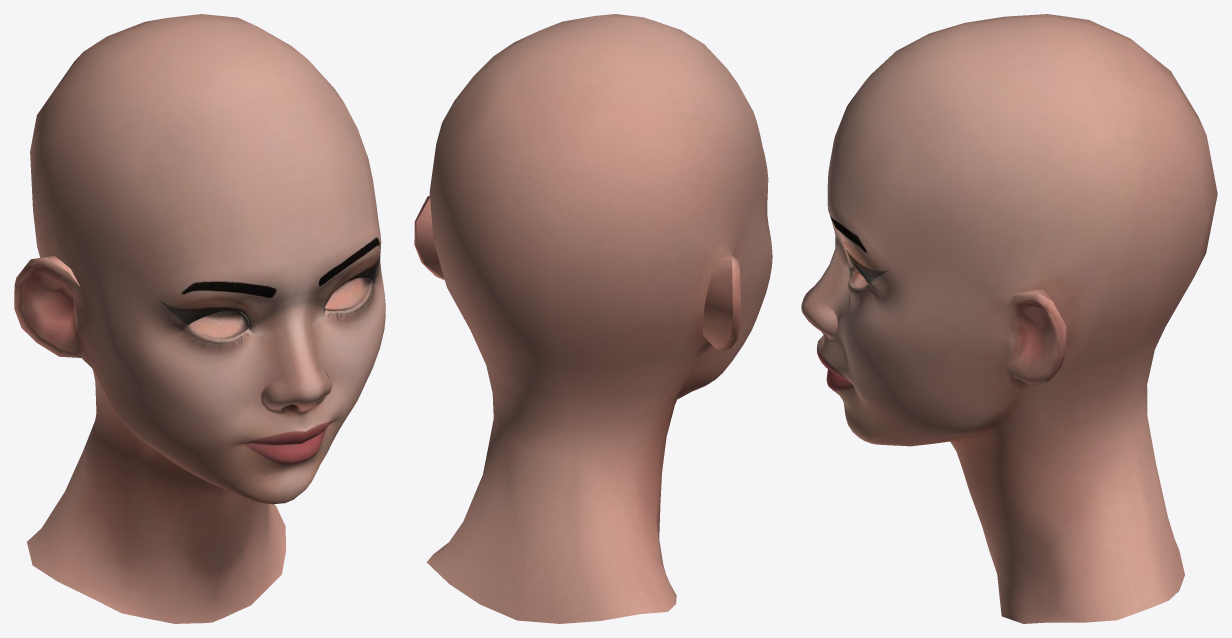
File: makyaj1.glb
3 views of the same model, side by side, from view 1: azimuth 30°, elevation 25°; view 2: azimuth 150°, elevation 25°; view 3: azimuth 270°, elevation 25° (orthographic). The views are drawn at different scales.
Visible parts, largest first — view 1: Wolf3D_Head; view 2: Wolf3D_Head; view 3: Wolf3D_Head.
Boxes of the visible parts, bbox=[...] form: Wolf3D_Head: bbox=[14, 14, 385, 623]; Wolf3D_Head: bbox=[414, 14, 772, 623]; Wolf3D_Head: bbox=[801, 14, 1217, 623].
Bounding box in the file's own units: 0.1899 × 0.3109 × 0.2036.
Materials: 1 (1 with a texture image).
